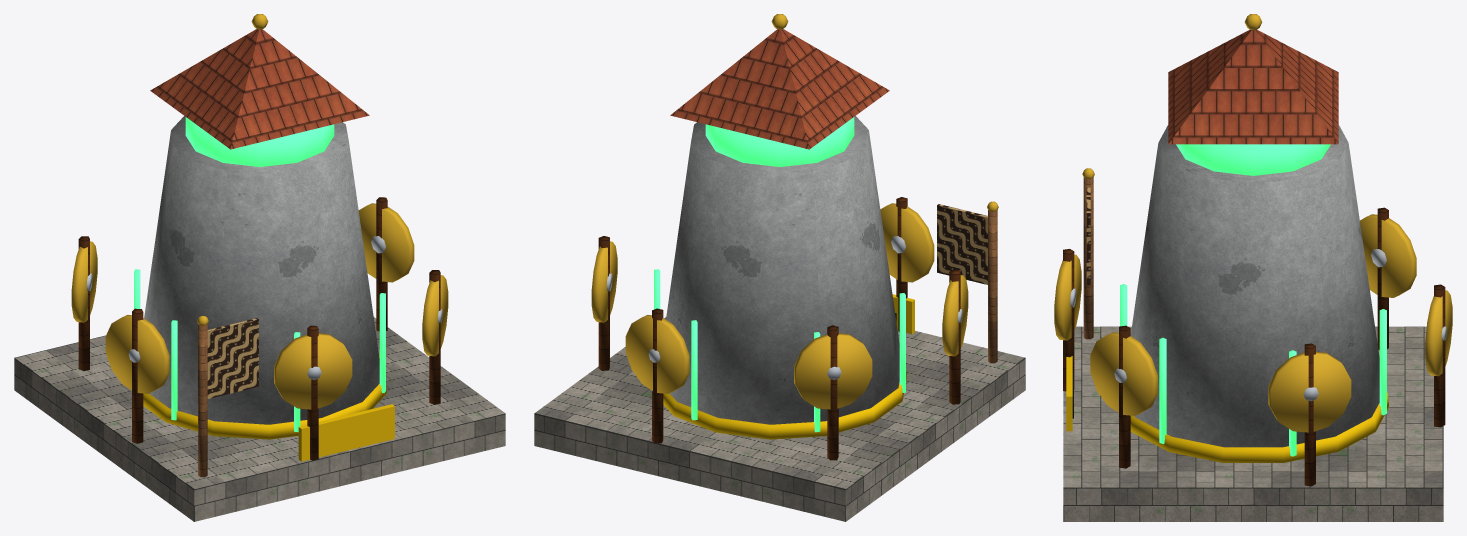
Rendered from reactor_jawa.glb.
3 views of the same model, side by side, from view 1: azimuth 30°, elevation 25°; view 2: azimuth 150°, elevation 25°; view 3: azimuth 270°, elevation 25° (orthographic). The views are drawn at different scales.
Visible parts, largest first — view 1: reactor_jawa; view 2: reactor_jawa; view 3: reactor_jawa.
Boxes of the visible parts, <box> form: reactor_jawa: <box>14,14,505,521</box>; reactor_jawa: <box>534,14,1025,521</box>; reactor_jawa: <box>1054,14,1452,521</box>.
Size of the model in its own units: 3.13 by 3.72 by 3.14.
11 materials, 6 textured.
